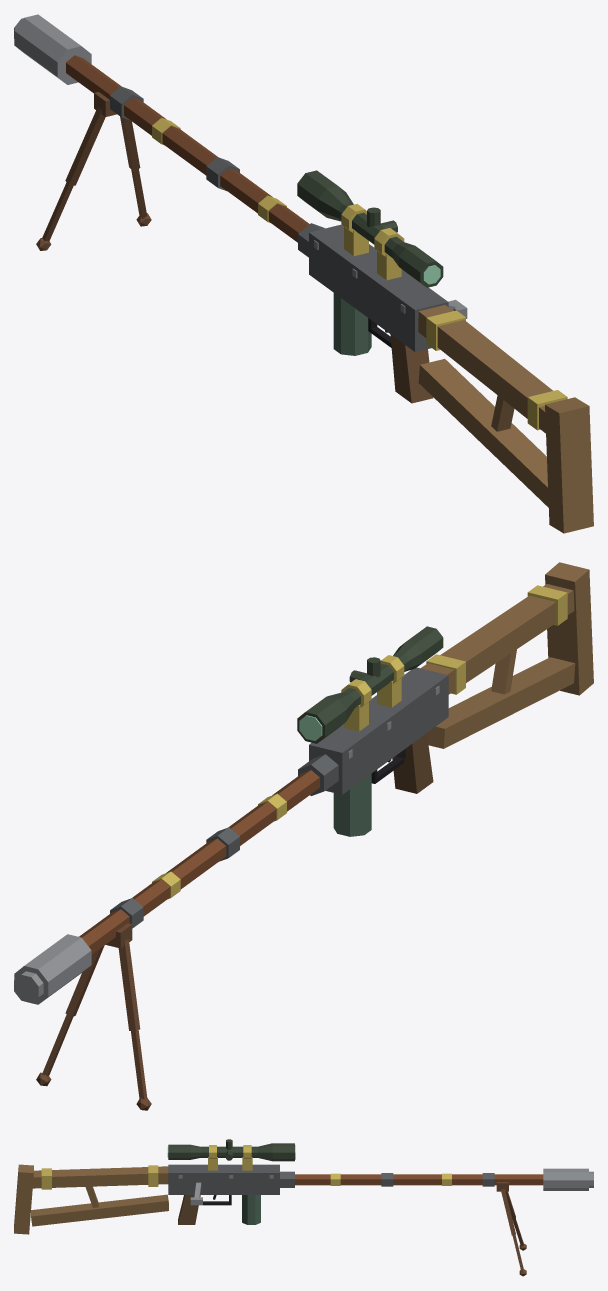
Rendered from Scrapper.obj.
3 views of the same model, one above another, from view 1: azimuth 30°, elevation 25°; view 2: azimuth 150°, elevation 25°; view 3: azimuth 270°, elevation 25° (orthographic). The views are drawn at different scales.
Visible parts, largest first — view 1: Stock, Body, Barrel, Scope, Bipod, Muzzle, Accent, Magazine, Mount, Grip; view 2: Stock, Body, Barrel, Scope, Bipod, Muzzle, Accent, Magazine, Mount, Grip; view 3: Stock, Body, Barrel, Scope, Muzzle, Bipod, Accent, Magazine, Mount, Grip, Bolt.
Part boxes in pixels (x1,y1,x2,y2): Stock: [418, 305, 593, 533]; Body: [110, 86, 448, 351]; Barrel: [66, 55, 309, 242]; Scope: [297, 170, 443, 287]; Bipod: [36, 92, 151, 250]; Muzzle: [14, 14, 91, 84]; Accent: [152, 118, 567, 430]; Magazine: [333, 293, 371, 355]; Mount: [341, 204, 404, 280]; Grip: [390, 334, 433, 403]; Stock: [421, 562, 593, 748]; Body: [110, 667, 448, 928]; Barrel: [79, 770, 319, 954]; Scope: [297, 626, 443, 743]; Bipod: [36, 923, 151, 1110]; Muzzle: [14, 934, 91, 1004]; Accent: [152, 585, 567, 898]; Magazine: [333, 774, 371, 836]; Mount: [341, 655, 404, 731]; Grip: [392, 733, 433, 793]; Stock: [14, 1164, 168, 1234]; Body: [168, 1164, 494, 1194]; Barrel: [295, 1174, 543, 1185]; Scope: [168, 1139, 294, 1161]; Muzzle: [543, 1168, 593, 1190]; Bipod: [496, 1182, 526, 1276]; Accent: [41, 1165, 451, 1189]; Magazine: [242, 1195, 260, 1224]; Mount: [208, 1145, 252, 1170]; Grip: [178, 1195, 200, 1224]; Bolt: [178, 1175, 273, 1205].
Bounding box in the file's own units: 0.674 × 1.33 × 5.72.
